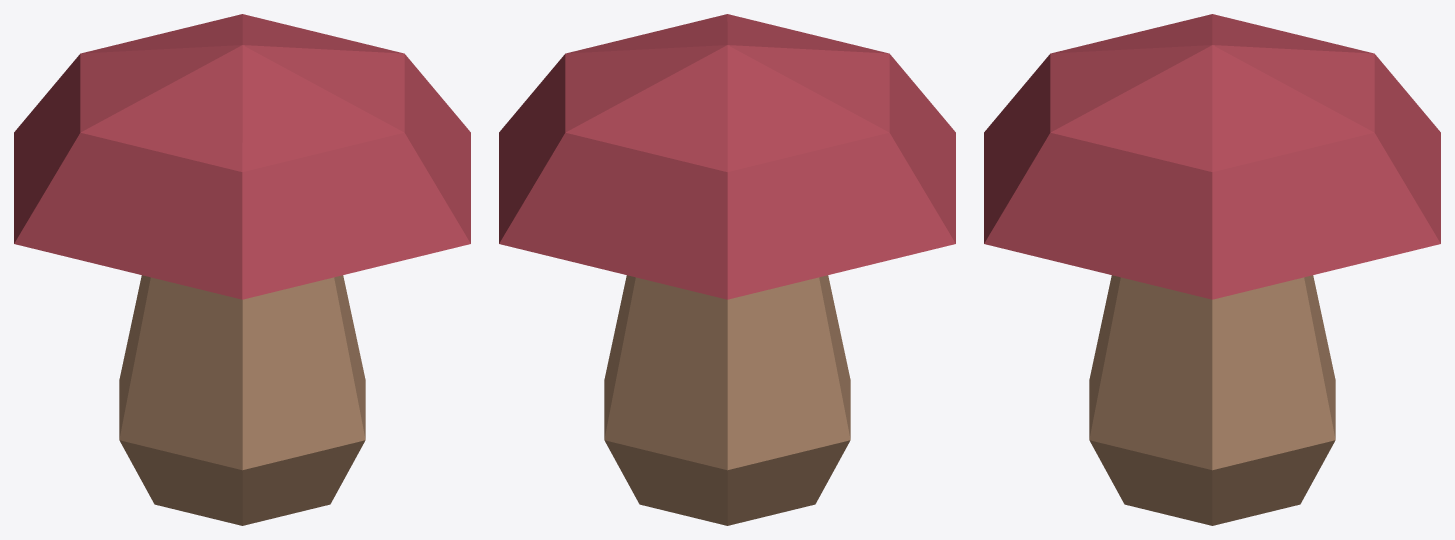
Rendered from Mushroom.fbx.
3 views of the same model, side by side, from view 1: azimuth 30°, elevation 25°; view 2: azimuth 150°, elevation 25°; view 3: azimuth 270°, elevation 25° (orthographic).
Parts seen in each view (by area): view 1: Mushroom; view 2: Mushroom; view 3: Mushroom.
Boxes of the visible parts, x1,y1,x2,y2 form: Mushroom: (14, 14, 470, 525); Mushroom: (499, 14, 955, 525); Mushroom: (984, 14, 1440, 525).
Bounding box in the file's own units: 0.618 × 0.5662 × 0.5352.
